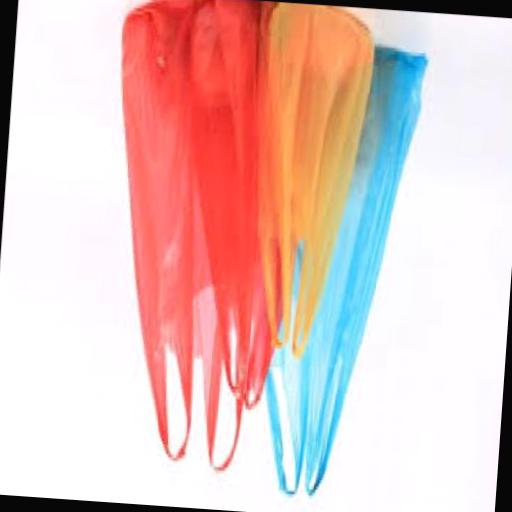plastic: (92, 0, 269, 473), (250, 42, 430, 504), (163, 0, 312, 414), (240, 3, 380, 362)
